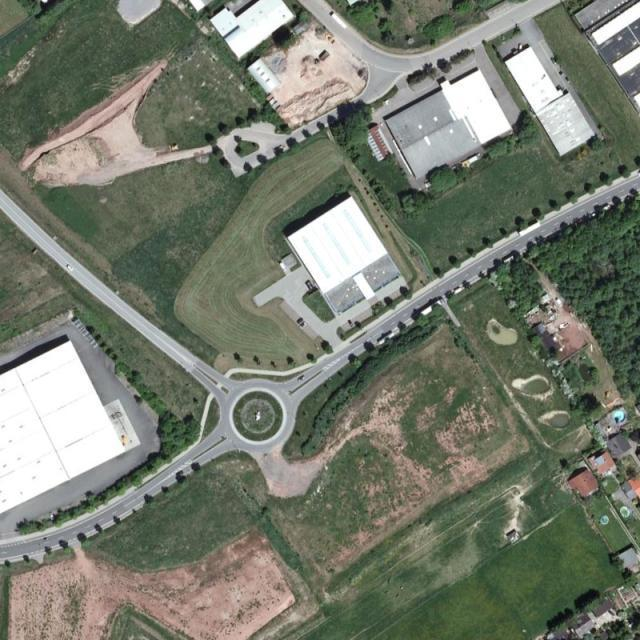vehicle: (299, 322, 307, 330), (348, 321, 356, 329), (298, 375, 306, 382), (296, 318, 304, 325)
